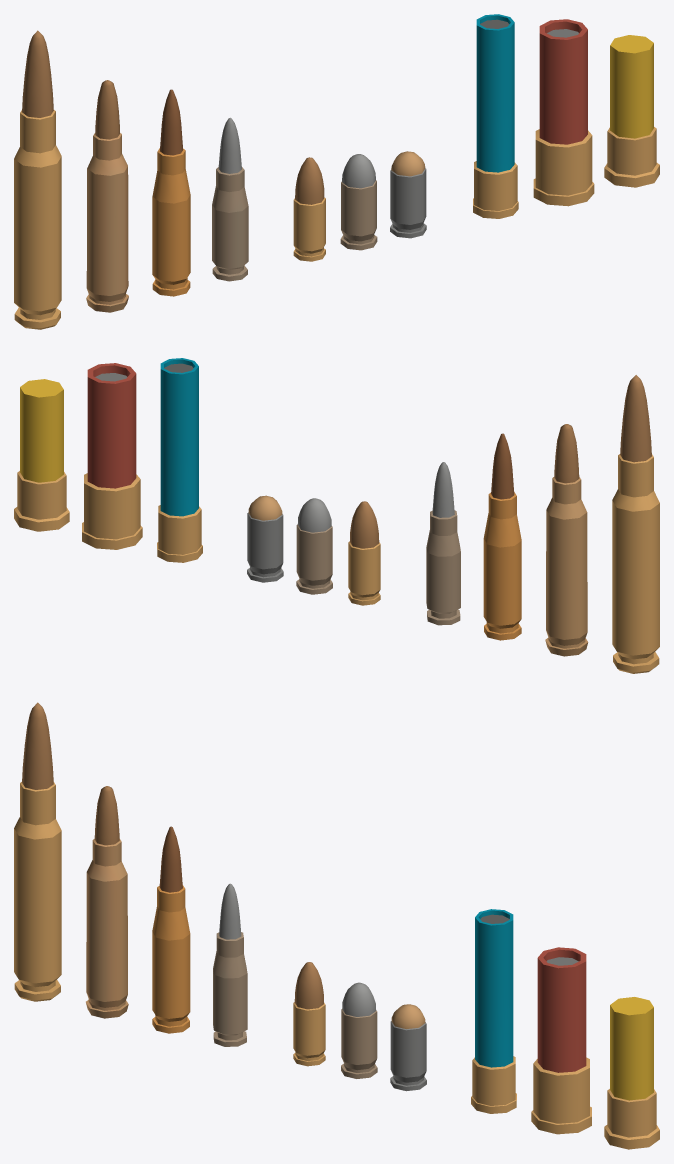
The model's file is free_pack_-_bullets.glb.
The picture shows the model from 3 angles, top to bottom: view 1: azimuth 30°, elevation 25°; view 2: azimuth 150°, elevation 25°; view 3: azimuth 330°, elevation 25°; orthographic projection.
Visible parts, largest first — view 1: SM_Bullet_01, SM_Bullet_09, SM_Bullet_02, SM_Bullet_08, SM_Bullet_010, SM_Bullet_03, SM_Bullet_04, SM_Bullet_06, SM_Bullet_05, SM_Bullet_07; view 2: SM_Bullet_01, SM_Bullet_09, SM_Bullet_02, SM_Bullet_08, SM_Bullet_010, SM_Bullet_03, SM_Bullet_04, SM_Bullet_06, SM_Bullet_05, SM_Bullet_07; view 3: SM_Bullet_01, SM_Bullet_09, SM_Bullet_02, SM_Bullet_08, SM_Bullet_010, SM_Bullet_03, SM_Bullet_04, SM_Bullet_06, SM_Bullet_05, SM_Bullet_07.
Part boxes in pixels (x1=…): SM_Bullet_01: x1=14, y1=30, x2=61, y2=329; SM_Bullet_09: x1=533, y1=19, x2=594, y2=206; SM_Bullet_02: x1=86, y1=80, x2=128, y2=312; SM_Bullet_08: x1=473, y1=14, x2=518, y2=218; SM_Bullet_010: x1=604, y1=35, x2=659, y2=187; SM_Bullet_03: x1=152, y1=89, x2=190, y2=296; SM_Bullet_04: x1=212, y1=117, x2=248, y2=281; SM_Bullet_06: x1=340, y1=154, x2=377, y2=250; SM_Bullet_05: x1=293, y1=157, x2=325, y2=261; SM_Bullet_07: x1=390, y1=151, x2=426, y2=238; SM_Bullet_01: x1=612, y1=375, x2=659, y2=673; SM_Bullet_09: x1=82, y1=363, x2=142, y2=549; SM_Bullet_02: x1=545, y1=424, x2=588, y2=656; SM_Bullet_08: x1=157, y1=358, x2=202, y2=562; SM_Bullet_010: x1=14, y1=379, x2=69, y2=531; SM_Bullet_03: x1=483, y1=433, x2=521, y2=640; SM_Bullet_04: x1=426, y1=462, x2=460, y2=625; SM_Bullet_06: x1=296, y1=498, x2=332, y2=594; SM_Bullet_05: x1=348, y1=501, x2=380, y2=605; SM_Bullet_07: x1=247, y1=495, x2=283, y2=582; SM_Bullet_01: x1=14, y1=702, x2=61, y2=1001; SM_Bullet_09: x1=531, y1=947, x2=591, y2=1134; SM_Bullet_02: x1=86, y1=786, x2=128, y2=1018; SM_Bullet_08: x1=471, y1=909, x2=516, y2=1113; SM_Bullet_010: x1=604, y1=997, x2=659, y2=1149; SM_Bullet_03: x1=152, y1=826, x2=190, y2=1033; SM_Bullet_04: x1=213, y1=883, x2=247, y2=1046; SM_Bullet_06: x1=341, y1=982, x2=377, y2=1078; SM_Bullet_05: x1=293, y1=962, x2=325, y2=1066; SM_Bullet_07: x1=390, y1=1004, x2=426, y2=1091.
Size of the model in its own units: 3.69 by 1.62 by 0.3054.
Materials: 1 (1 with a texture image).
